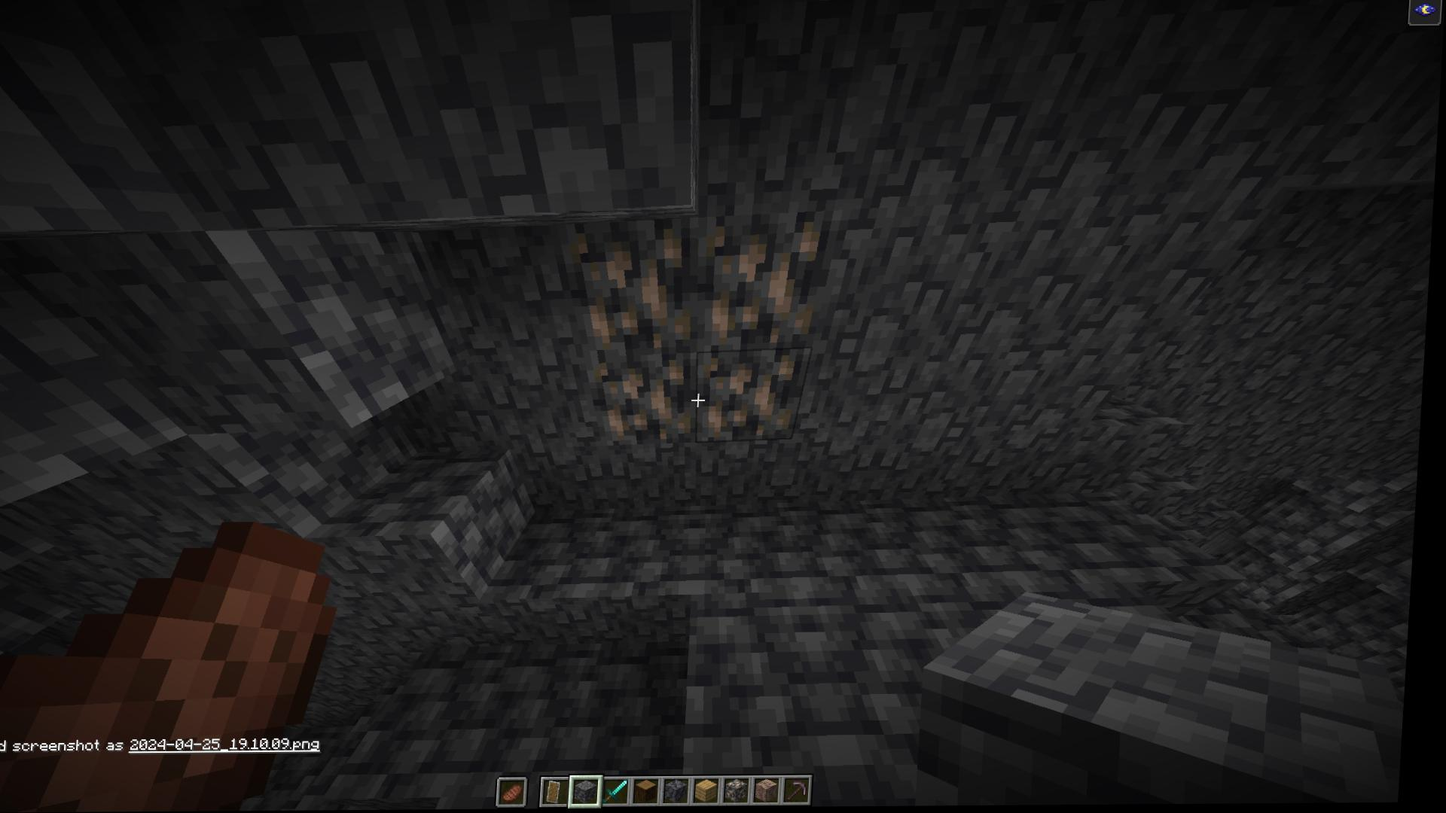iron ore: (568, 217, 707, 353), (699, 213, 830, 353), (595, 354, 705, 453), (701, 351, 810, 447)
